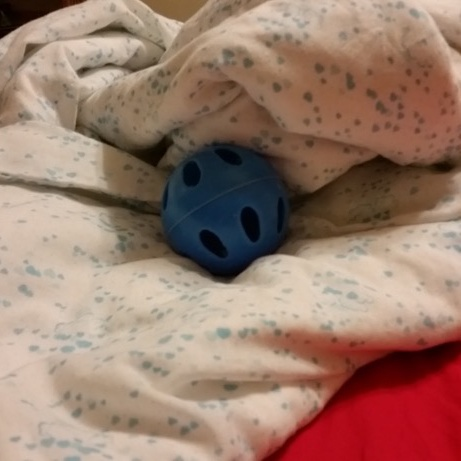ball: (156, 139, 294, 281)
